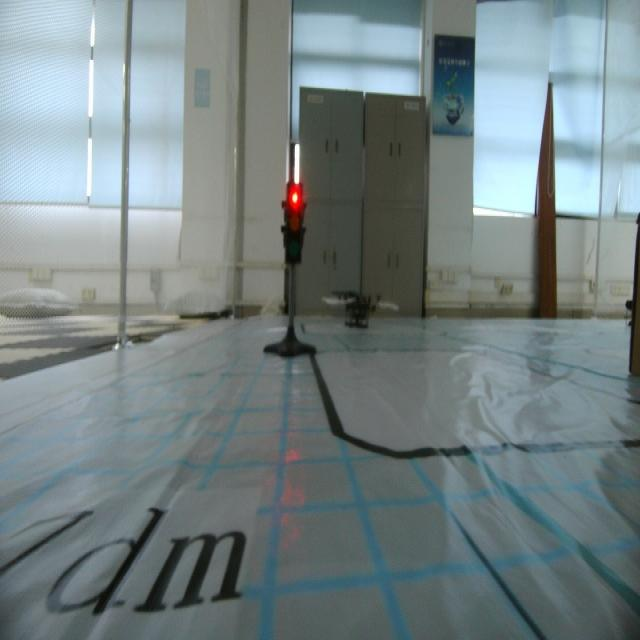red: (280, 176, 306, 271)
